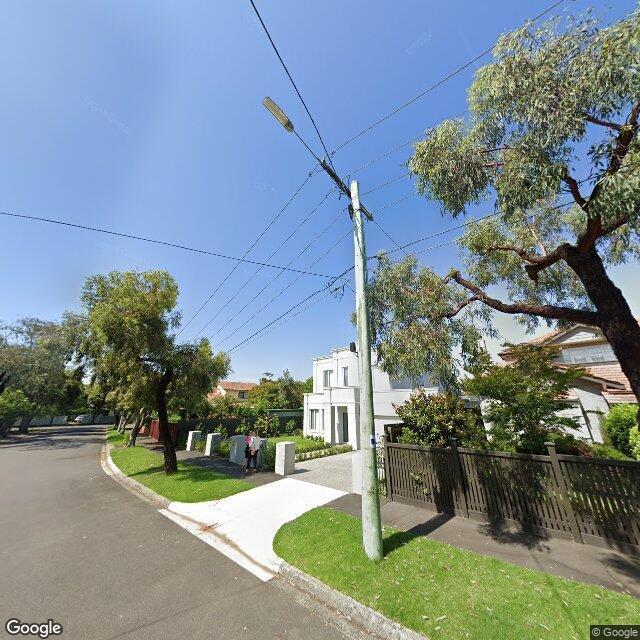crossarm: (307, 150, 375, 223)
streetlight: (262, 95, 359, 220)
timber-pole: (351, 180, 384, 562)
